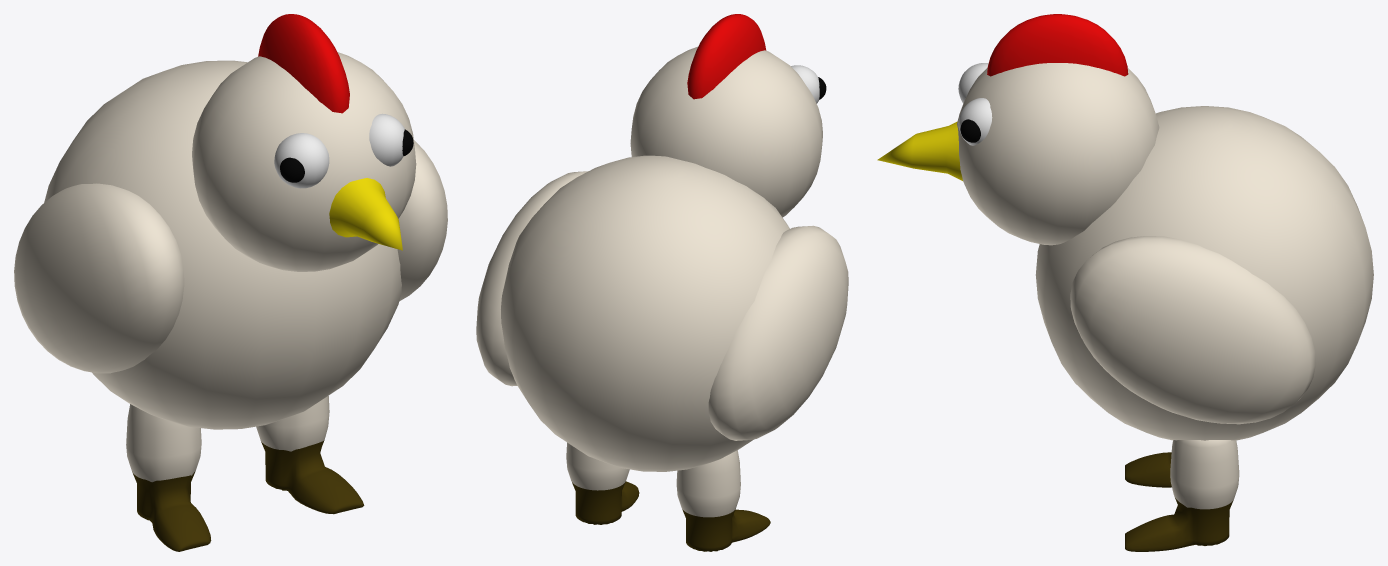
Rendered from puapau.fbx.
3 renders of one model, left to right at view 1: azimuth 30°, elevation 25°; view 2: azimuth 150°, elevation 25°; view 3: azimuth 270°, elevation 25°, orthographic. The views are drawn at different scales.
Parts seen in each view (by area): view 1: pSphere11; view 2: pSphere11; view 3: pSphere11.
Boxes of the visible parts, left/top/right/bottom form: pSphere11: left=14, top=14, right=447, bottom=551; pSphere11: left=476, top=14, right=848, bottom=551; pSphere11: left=877, top=14, right=1373, bottom=551.
Size of the model in its own units: 3.74 by 5.19 by 4.75.
